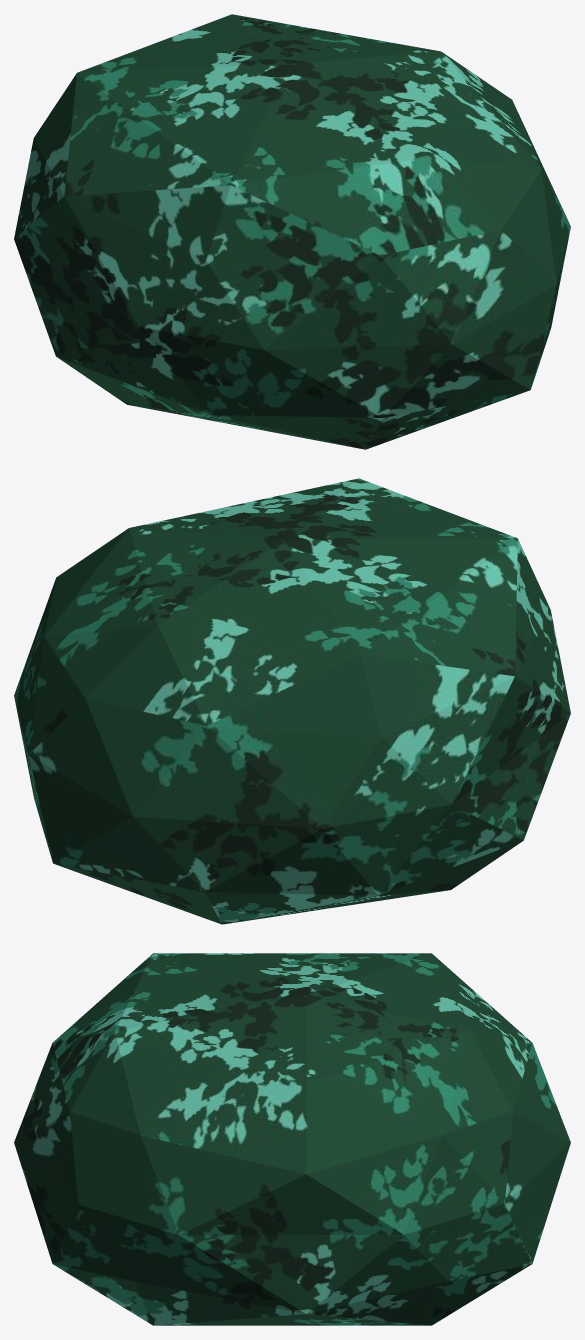
The model's file is Bush.fbx.
The picture shows the model from 3 angles, top to bottom: view 1: azimuth 30°, elevation 25°; view 2: azimuth 150°, elevation 25°; view 3: azimuth 270°, elevation 25°; orthographic projection. The views are drawn at different scales.
Visible parts, largest first — view 1: Icosphere; view 2: Icosphere; view 3: Icosphere.
Boxes of the visible parts, left/top/right/bottom form: Icosphere: left=14, top=14, right=570, bottom=449; Icosphere: left=14, top=478, right=570, bottom=924; Icosphere: left=14, top=953, right=570, bottom=1325.
Size of the model in its own units: 294 by 200 by 343.
